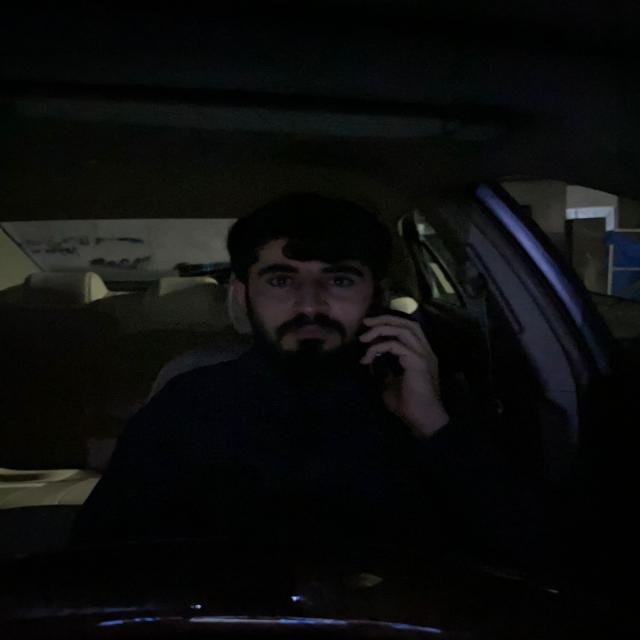mobile: (364, 303, 416, 392)
person: (228, 207, 389, 382)
